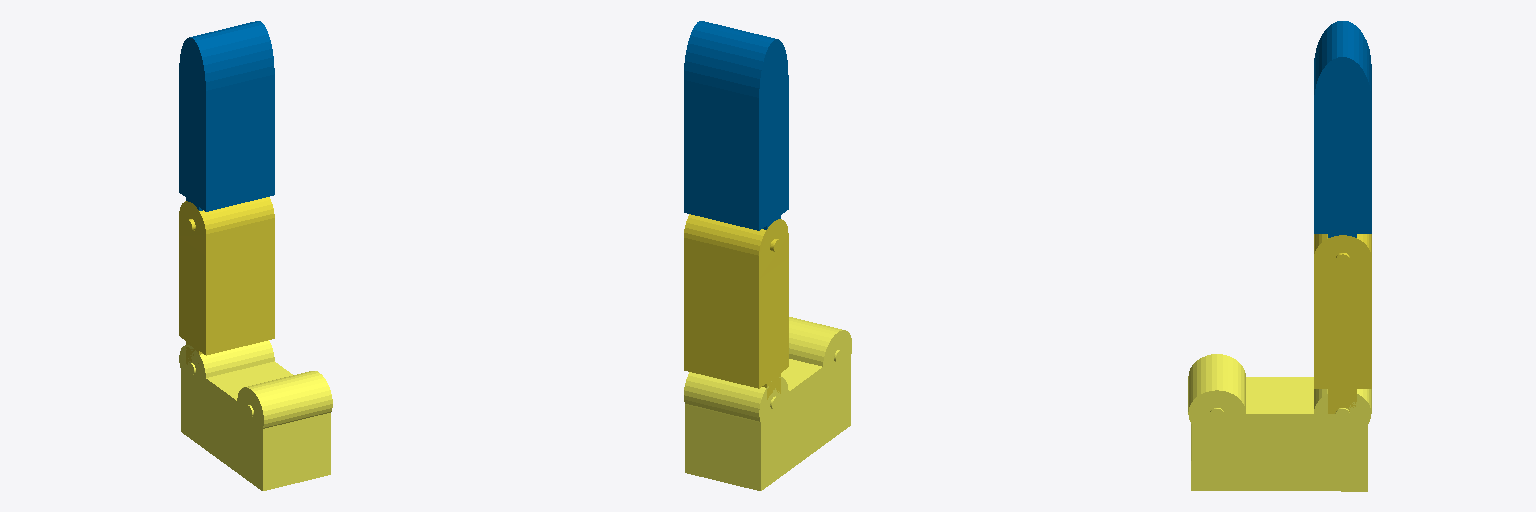
URDF robot description (test_gripper):
?<?xml version="1.0"?>
<robot name="test_gripper">

  <link name="body_palm_lpinvrpin">
    <visual>
      <origin rpy="1.57 0 0" xyz="0 0 0"/>
      <geometry>
        <mesh filename="objFiles/body_palm_lpinvrpin.obj" scale="1 1 1"/>
      </geometry>
       <material name="yellow">
        <color rgba="1 1 0.4 1"/>
      </material>
    </visual>
    <collision>
      <origin rpy="1.57 0 0" xyz="0 0 0"/>
      <geometry>
	 	<mesh filename="objFiles/body_palm_lpinvrpin_collision.obj" scale="1 1 1"/>
      </geometry>
    </collision>
    <inertial>
      <mass value="0.5"/>
      <inertia ixx="1.0" ixy="0.0" ixz="0.0" iyy="1.0" iyz="0.0" izz="1.0"/>
    </inertial>
  </link>



  <joint name="left_prox_joint" type="revolute">
    <axis xyz="1 0 0"/>
    <limit effort="1000.0" lower="-3.14" upper="3.14" velocity="0.5"/>
    <origin rpy="0 0 0" xyz="0.0 -0.02338 0"/>
    <parent link="body_palm_lpinvrpin"/>
    <child link="body_l_prox_pinvpin2"/>
  </joint>


  <link name="body_l_prox_pinvpin2">
    <visual>
      <origin rpy="1.57 0 0" xyz="0 0 0"/>
      <geometry>
        <mesh filename="objFiles/body_l_prox_pinvpin2.obj" scale="1 1 1"/>
      </geometry>
       
    </visual>
    <collision>
      <origin rpy="1.57 0 0" xyz="0 0 0"/>
      <geometry>
	 	<mesh filename="objFiles/body_l_prox_pinvpin2_collision.obj" scale="1 1 1"/>
      </geometry>
    </collision>
    <inertial>
      <mass value="0.5"/>
      <inertia ixx="1.0" ixy="0.0" ixz="0.0" iyy="1.0" iyz="0.0" izz="1.0"/>
    </inertial>
  </link>


  <joint name="left_dist_joint" type="revolute">
    <axis xyz="1 0 0"/>
    <limit effort="1000.0" lower="-3.14" upper="3.14" velocity="0.5"/>
    <origin rpy="0 0 0" xyz="0.0 0 0.06379"/>
    <parent link="body_l_prox_pinvpin2"/>
    <child link="body_l_dist_pin2vround2"/>
  </joint>


  <link name="body_l_dist_pin2vround2">
    <visual>
      <origin rpy="1.57 0 0" xyz="0 0.0 0"/>
      <geometry>
        <mesh filename="objFiles/body_l_dist_pin2vround2.obj" scale="1 1 1"/>
      </geometry>
       
    </visual>
    <collision>
      <origin rpy="1.57 0 0" xyz="0 0 0"/>
      <geometry>
	 	<mesh filename="objFiles/body_l_dist_pin2vround2_collision.obj" scale="1 1 1"/>
      </geometry>
    </collision>
    <inertial>
      <mass value="0.5"/>
      <inertia ixx="1.0" ixy="0.0" ixz="0.0" iyy="1.0" iyz="0.0" izz="1.0"/>
    </inertial>
  </link>


  <joint name="right_prox_joint" type="revolute">
    <axis xyz="1 0 0"/>
    <limit effort="1000.0" lower="-3.14" upper="3.14" velocity="0.5"/>
    <origin rpy="0 0 0" xyz="0.0 0.02338 0"/>
    <parent link="body_palm_lpinvrpin"/>
    <child link="body_r_prox_pinvpin2"/>
  </joint>


  <link name="body_r_prox_pinvpin2">
    <visual>
      <origin rpy="1.57 0 0" xyz="0 0.0 0"/>
      <geometry>
        <mesh filename="objFiles/body_r_prox_pinvpin2.obj" scale="1 1 1"/>
      </geometry>
       
    </visual>
    <collision>
      <origin rpy="1.57 0 0" xyz="0 0 0"/>
      <geometry>
	 	<mesh filename="objFiles/body_r_prox_pinvpin2_collision.obj" scale="1 1 1"/>
      </geometry>
    </collision>
    <inertial>
      <mass value="0.5"/>
      <inertia ixx="1.0" ixy="0.0" ixz="0.0" iyy="1.0" iyz="0.0" izz="1.0"/>
    </inertial>
  </link>


  <joint name="right_dist_joint" type="revolute">
    <axis xyz="1 0 0"/>
    <limit effort="1000.0" lower="-3.14" upper="3.14" velocity="0.5"/>
    <origin rpy="0 0 0" xyz="0.0 0 0.06379"/>
    <parent link="body_r_prox_pinvpin2"/>
    <child link="body_r_dist_pin2vround2"/>
  </joint>


  <link name="body_r_dist_pin2vround2">
    <visual>
      <origin rpy="1.57 0 0" xyz="0 0.0 0"/>
      <geometry>
        <mesh filename="objFiles/body_r_dist_pin2vround2.obj" scale="1 1 1"/>
      </geometry>
       
    </visual>
    <collision>
      <origin rpy="1.57 0 0" xyz="0 0 0"/>
      <geometry>
	 	<mesh filename="objFiles/body_r_dist_pin2vround2_collision.obj" scale="1 1 1"/>
      </geometry>
    </collision>
    <inertial>
      <mass value="0.5"/>
      <inertia ixx="1.0" ixy="0.0" ixz="0.0" iyy="1.0" iyz="0.0" izz="1.0"/>
    </inertial>
  </link>


</robot>

--- Facts derived from the render (not from the file) ---
3 views of the same robot in one strip: view 1: azimuth 30°, elevation 25°; view 2: azimuth 150°, elevation 25°; view 3: azimuth 270°, elevation 25° (orthographic).
Model test_gripper with 5 links and 4 joints (4 revolute), rooted at body_palm_lpinvrpin, posed every joint at zero.
Links seen in each view (by area): view 1: body_palm_lpinvrpin, body_r_dist_pin2vround2, body_r_prox_pinvpin2; view 2: body_r_dist_pin2vround2, body_palm_lpinvrpin, body_r_prox_pinvpin2; view 3: body_palm_lpinvrpin, body_r_dist_pin2vround2, body_r_prox_pinvpin2.
Link boxes in pixels (x1,y1,x2,y2): body_palm_lpinvrpin: (179, 340, 332, 490); body_r_dist_pin2vround2: (179, 21, 274, 211); body_r_prox_pinvpin2: (179, 197, 274, 364); body_r_dist_pin2vround2: (684, 21, 788, 230); body_palm_lpinvrpin: (684, 317, 851, 490); body_r_prox_pinvpin2: (684, 214, 788, 399); body_palm_lpinvrpin: (1188, 354, 1371, 491); body_r_dist_pin2vround2: (1314, 21, 1371, 237); body_r_prox_pinvpin2: (1314, 234, 1371, 413).
Bounding box of the posed robot: 0.0352 × 0.0683 × 0.1787 m (x, y, z).
Meshes: 5 distinct files referenced, 3 mesh visuals loaded (3 OBJ); not drawn: 2 (reference not matched to a file when rendering).
